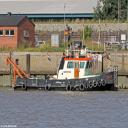tugboat: (7, 41, 121, 96)
